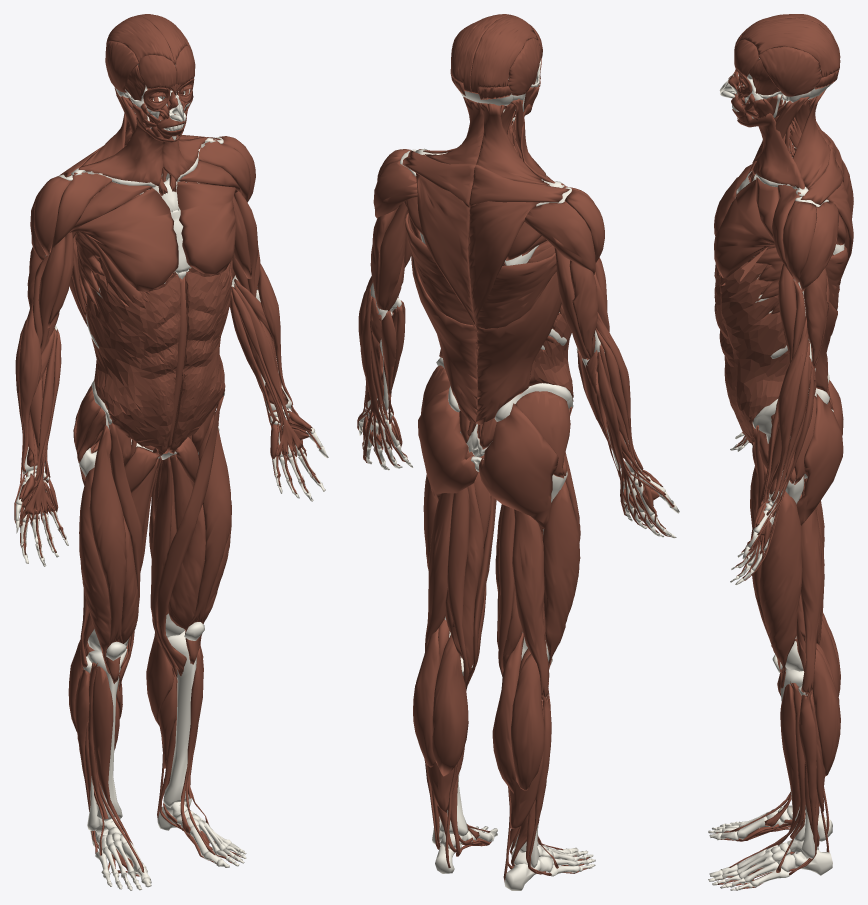
The model's file is anatomy.glb.
3 views of the same model, side by side, from view 1: azimuth 30°, elevation 25°; view 2: azimuth 150°, elevation 25°; view 3: azimuth 270°, elevation 25° (orthographic). The views are drawn at different scales.
Parts seen in each view (by area): view 1: External abdominal oblique muscle.012, External abdominal oblique muscle, Sternocostal head of pectoralis major muscle.007, Rectus femoris muscle.001, Sternocostal head of pectoralis major muscle.006, Rectus femoris muscle, Sartorius muscle, Vastus lateralis muscle.003, Platysma.001, Tibia.002, Vastus medialis muscle, Gracilis muscle.002 (+44 smaller); view 2: Latissimus dorsi muscle.005, Gluteus maximus muscle.005, Latissimus dorsi muscle.002, Descending part of trapezius muscle, Vastus lateralis muscle.003, Long head of biceps femoris.003, Descending part of trapezius muscle.003, Gluteus maximus muscle.002, Medial head of gastrocnemius, Lateral head of gastrocnemius.003, Epicranial aponeurosis.001, Scapular spinal part of deltoid muscle.003 (+34 smaller); view 3: External abdominal oblique muscle, Vastus lateralis muscle, Sternocostal head of pectoralis major muscle.006, Gluteus maximus muscle.002, Long head of biceps femoris, Epicranial aponeurosis, Temporoparietalis muscle, Lateral head of gastrocnemius, Platysma, Brachioradialis muscle.002, Acromial part of deltoid muscle, Scapular spinal part of deltoid muscle (+37 smaller).
Part boxes in pixels (x1,y1,x2,y2): External abdominal oblique muscle.012: (86, 258, 180, 446); External abdominal oblique muscle: (174, 258, 232, 444); Sternocostal head of pectoralis major muscle.007: (69, 188, 178, 291); Rectus femoris muscle.001: (89, 425, 126, 683); Sternocostal head of pectoralis major muscle.006: (177, 182, 237, 274); Rectus femoris muscle: (185, 414, 231, 664); Sartorius muscle: (156, 395, 223, 676); Vastus lateralis muscle.003: (79, 468, 110, 673); Platysma.001: (78, 117, 174, 185); Tibia.002: (163, 630, 196, 807); Vastus medialis muscle: (168, 505, 205, 651); Gracilis muscle.002: (150, 457, 177, 677); Latissimus dorsi muscle.005: (475, 252, 561, 424); Gluteus maximus muscle.005: (479, 403, 558, 528); Latissimus dorsi muscle.002: (405, 213, 477, 423); Descending part of trapezius muscle: (415, 173, 476, 326); Vastus lateralis muscle.003: (542, 481, 580, 665); Long head of biceps femoris.003: (512, 509, 549, 697); Descending part of trapezius muscle.003: (469, 201, 539, 327); Gluteus maximus muscle.002: (418, 389, 478, 501); Medial head of gastrocnemius: (432, 635, 468, 776); Lateral head of gastrocnemius.003: (511, 654, 544, 790); Epicranial aponeurosis.001: (470, 15, 538, 94); Scapular spinal part of deltoid muscle.003: (524, 201, 595, 274); External abdominal oblique muscle: (714, 262, 789, 442); Vastus lateralis muscle: (759, 491, 802, 688); Sternocostal head of pectoralis major muscle.006: (714, 179, 775, 278); Gluteus maximus muscle.002: (796, 393, 843, 525); Long head of biceps femoris: (800, 508, 824, 694); Epicranial aponeurosis: (738, 18, 840, 77); Temporoparietalis muscle: (758, 46, 820, 96); Lateral head of gastrocnemius: (812, 648, 840, 776); Platysma: (737, 113, 804, 189); Brachioradialis muscle.002: (771, 316, 808, 501); Acromial part of deltoid muscle: (782, 201, 816, 283); Scapular spinal part of deltoid muscle: (799, 201, 838, 291).
Bounding box in the file's own units: 0.6687 × 1.7 × 0.267.
